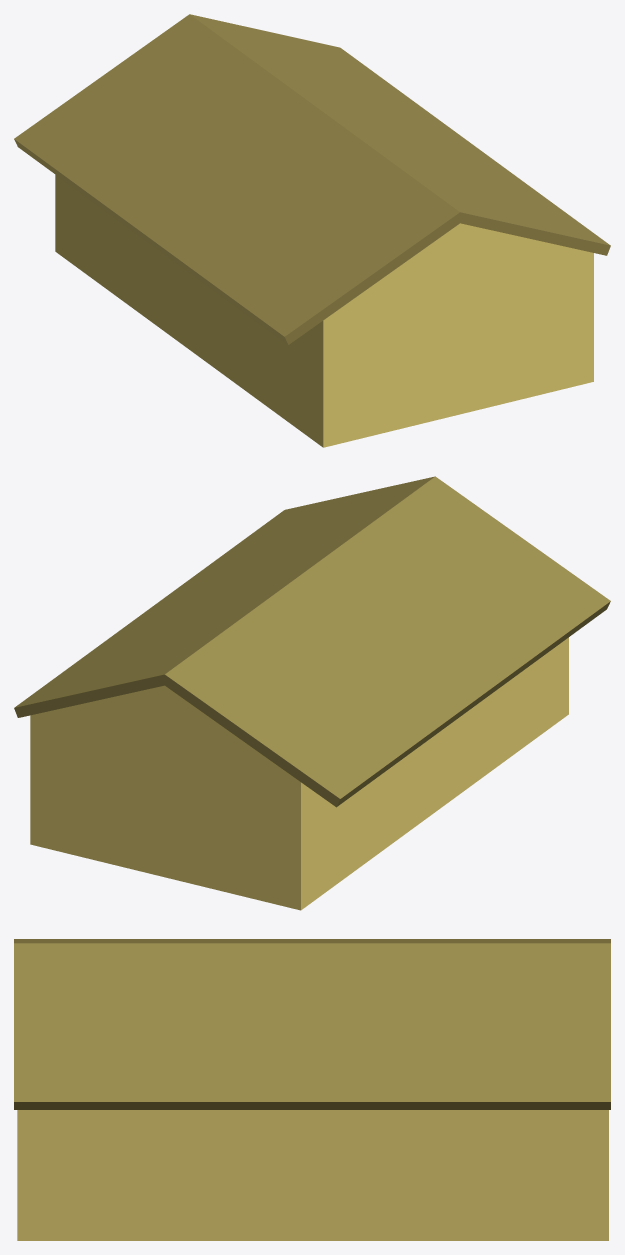
The model's file is result.glb.
The picture shows the model from 3 angles, top to bottom: view 1: azimuth 30°, elevation 25°; view 2: azimuth 150°, elevation 25°; view 3: azimuth 270°, elevation 25°; orthographic projection. The views are drawn at different scales.
Visible parts, largest first — view 1: ddb64246-7a8c-46ed-9448-a146e8bcd806__undefined (×2), 72e2c804-ca69-4165-86b9-593f5851b46e__undefined; view 2: ddb64246-7a8c-46ed-9448-a146e8bcd806__undefined (×2), 72e2c804-ca69-4165-86b9-593f5851b46e__undefined; view 3: ddb64246-7a8c-46ed-9448-a146e8bcd806__undefined (×2), 72e2c804-ca69-4165-86b9-593f5851b46e__undefined.
Boxes of the visible parts, x1,y1,x2,y2 form: ddb64246-7a8c-46ed-9448-a146e8bcd806__undefined (×2): [14, 14, 610, 344]; 72e2c804-ca69-4165-86b9-593f5851b46e__undefined: [55, 175, 593, 447]; ddb64246-7a8c-46ed-9448-a146e8bcd806__undefined (×2): [14, 476, 610, 807]; 72e2c804-ca69-4165-86b9-593f5851b46e__undefined: [30, 637, 568, 910]; ddb64246-7a8c-46ed-9448-a146e8bcd806__undefined (×2): [14, 939, 610, 1109]; 72e2c804-ca69-4165-86b9-593f5851b46e__undefined: [17, 1110, 608, 1240].
Size of the model in its own units: 843 by 503 by 1211.
